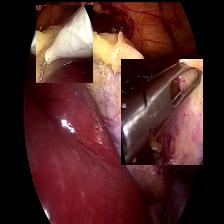Grasper: (119, 58, 202, 164)
Hook: (35, 4, 92, 82)
